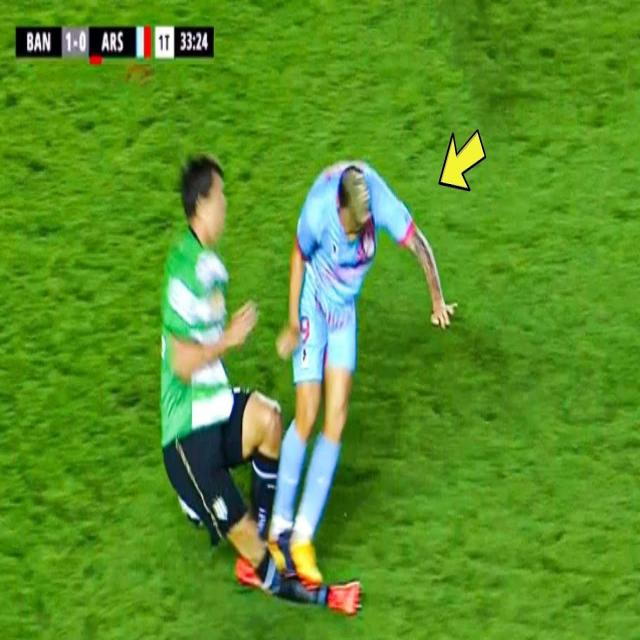collide: (263, 522, 353, 596)
like-hurt: (205, 160, 231, 242)
possible foul: (140, 131, 453, 593)
